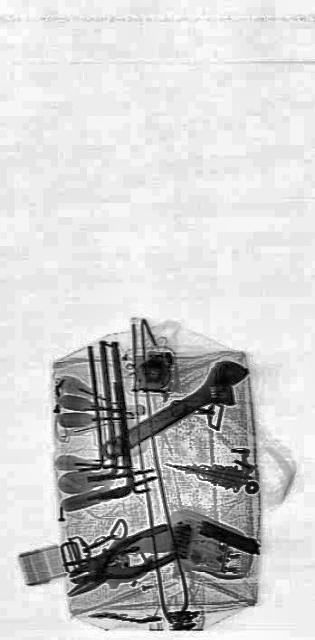Pliers: (66, 519, 174, 599), (64, 526, 154, 602)
Wrench: (98, 343, 252, 479)
